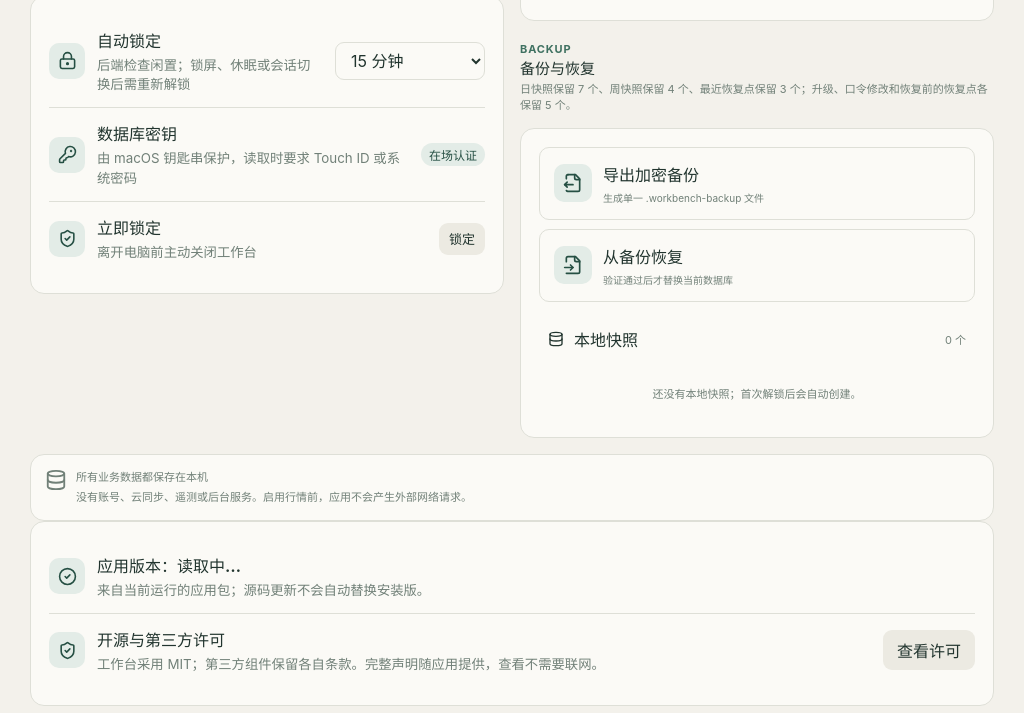
Test case: shows a recoverable error when the bundled notice cannot be opened
(page scrolled)
Click the button "查看许可" at point(929, 650), box x1=883 y1=630 x2=975 y2=670
(page scrolled)
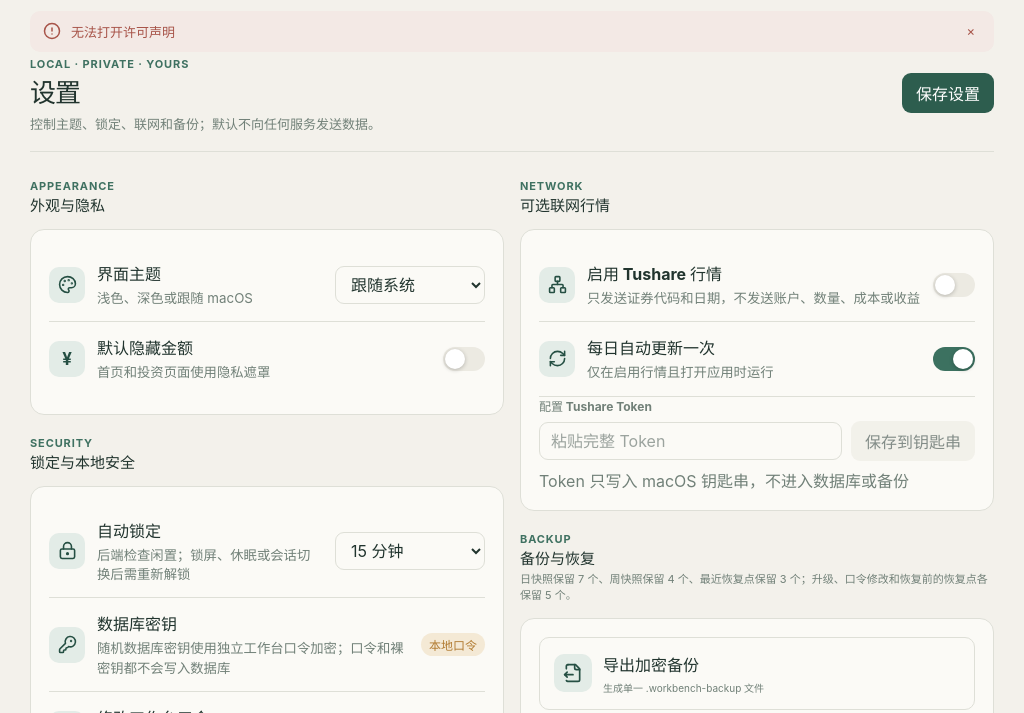
Check: the text "无法打开许可声明" is shown, box x1=71 y1=24 x2=175 y2=40
